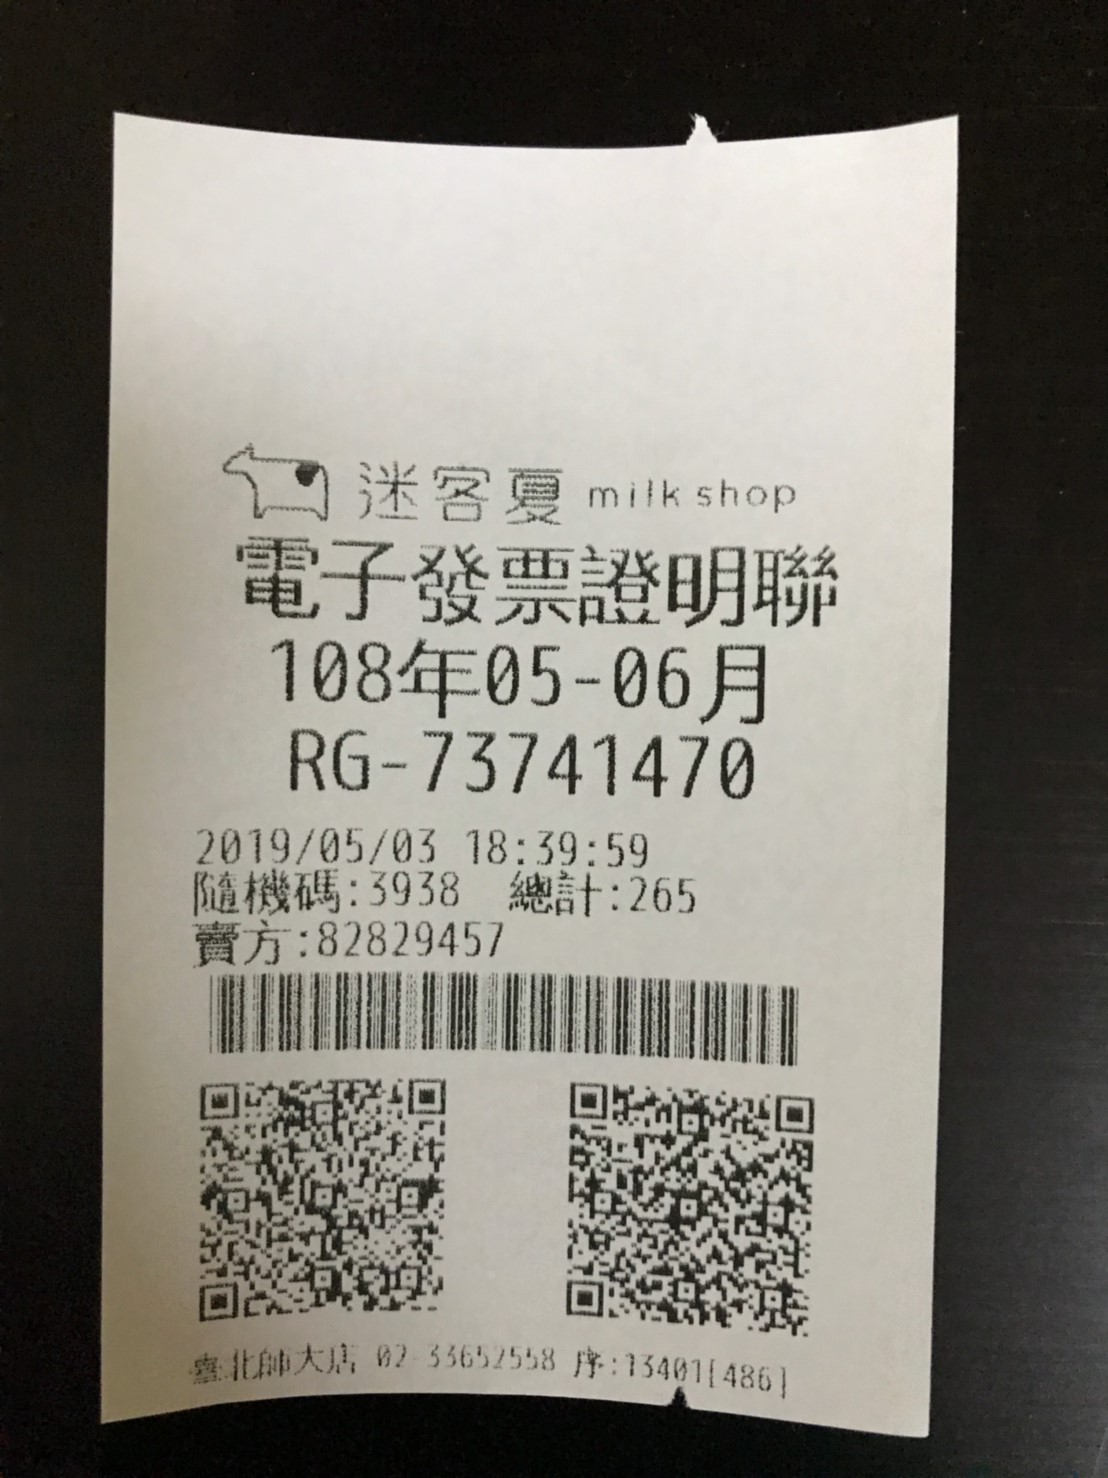Date_New: (267, 626, 777, 725)
Number_New: (417, 725, 760, 806)
